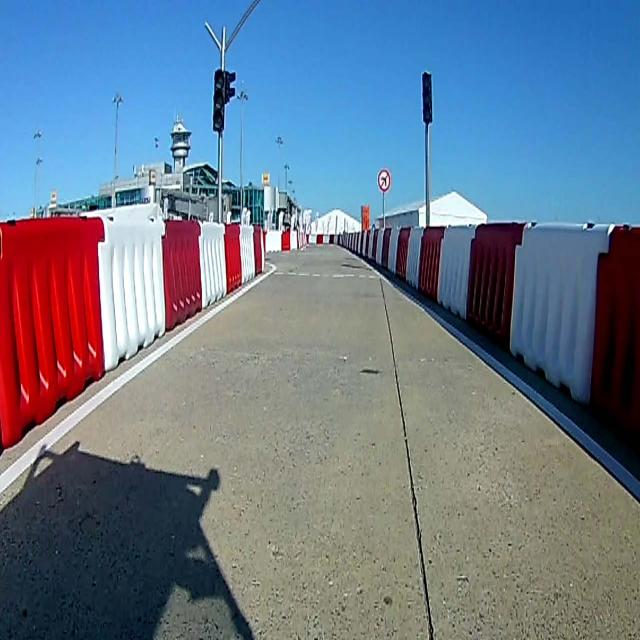soladonulmez: (378, 169, 390, 192)
